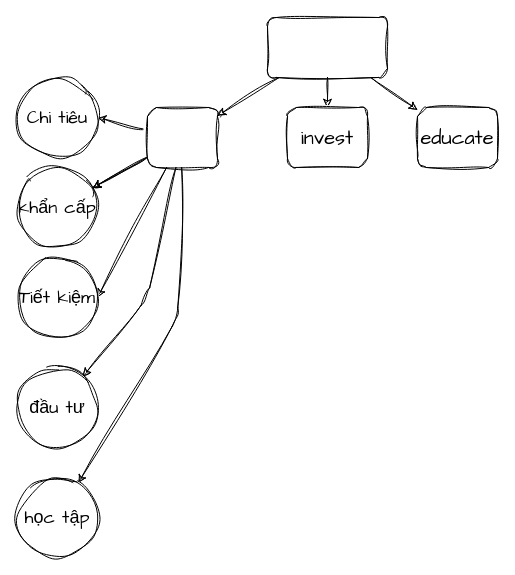
This 515x575 diagram has some shape labels left out. The shapes that lost their labels are listed below. From the top down, each one's box as (x1, y1, x2, y2) in pixels, then its label:
(266, 16, 388, 78): Financial system app
(146, 106, 218, 168): dashboard
